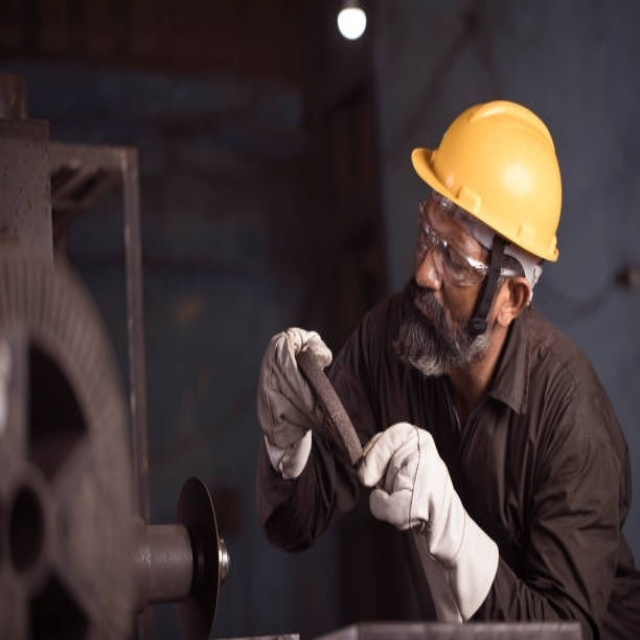Gafas: (420, 195, 542, 294)
Guantes: (361, 421, 499, 624), (257, 326, 332, 479)
Sin_mascara: (391, 278, 443, 353)
